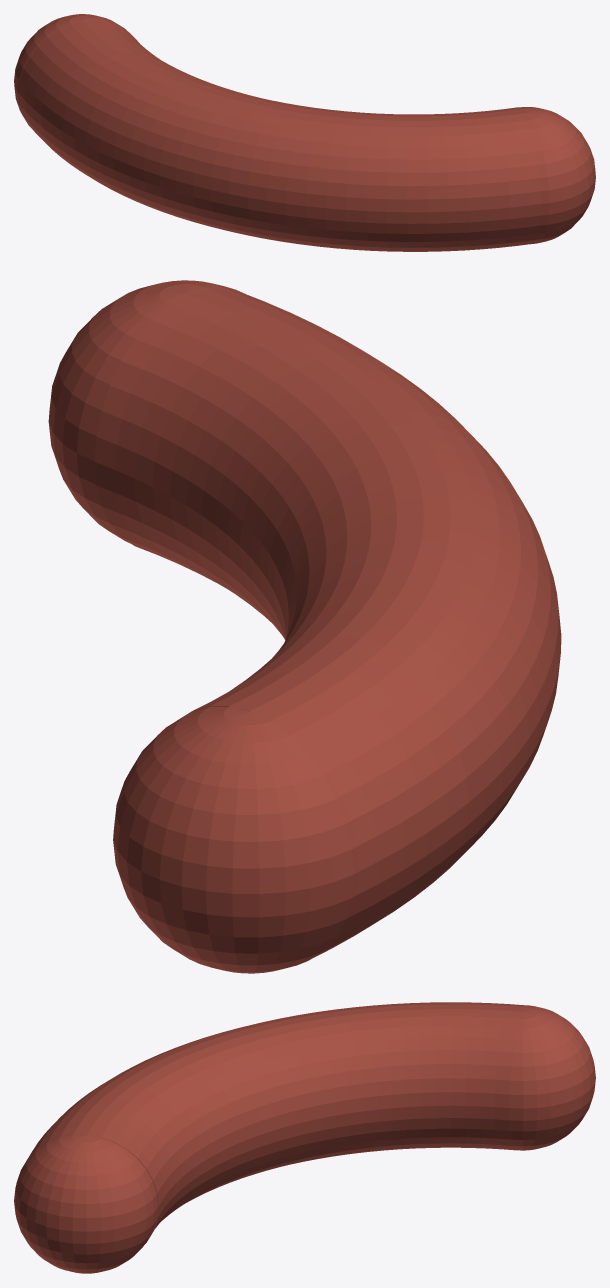
The model's file is Frank.fbx.
The picture shows the model from 3 angles, top to bottom: view 1: azimuth 30°, elevation 25°; view 2: azimuth 150°, elevation 25°; view 3: azimuth 270°, elevation 25°; orthographic projection. The views are drawn at different scales.
Parts seen in each view (by area): view 1: Frank; view 2: Frank; view 3: Frank.
Part boxes in pixels (bbox=[...]): Frank: bbox=[14, 14, 595, 251]; Frank: bbox=[48, 280, 561, 973]; Frank: bbox=[14, 1002, 595, 1273].
Size of the model in its own units: 6.1 by 2 by 7.99.
